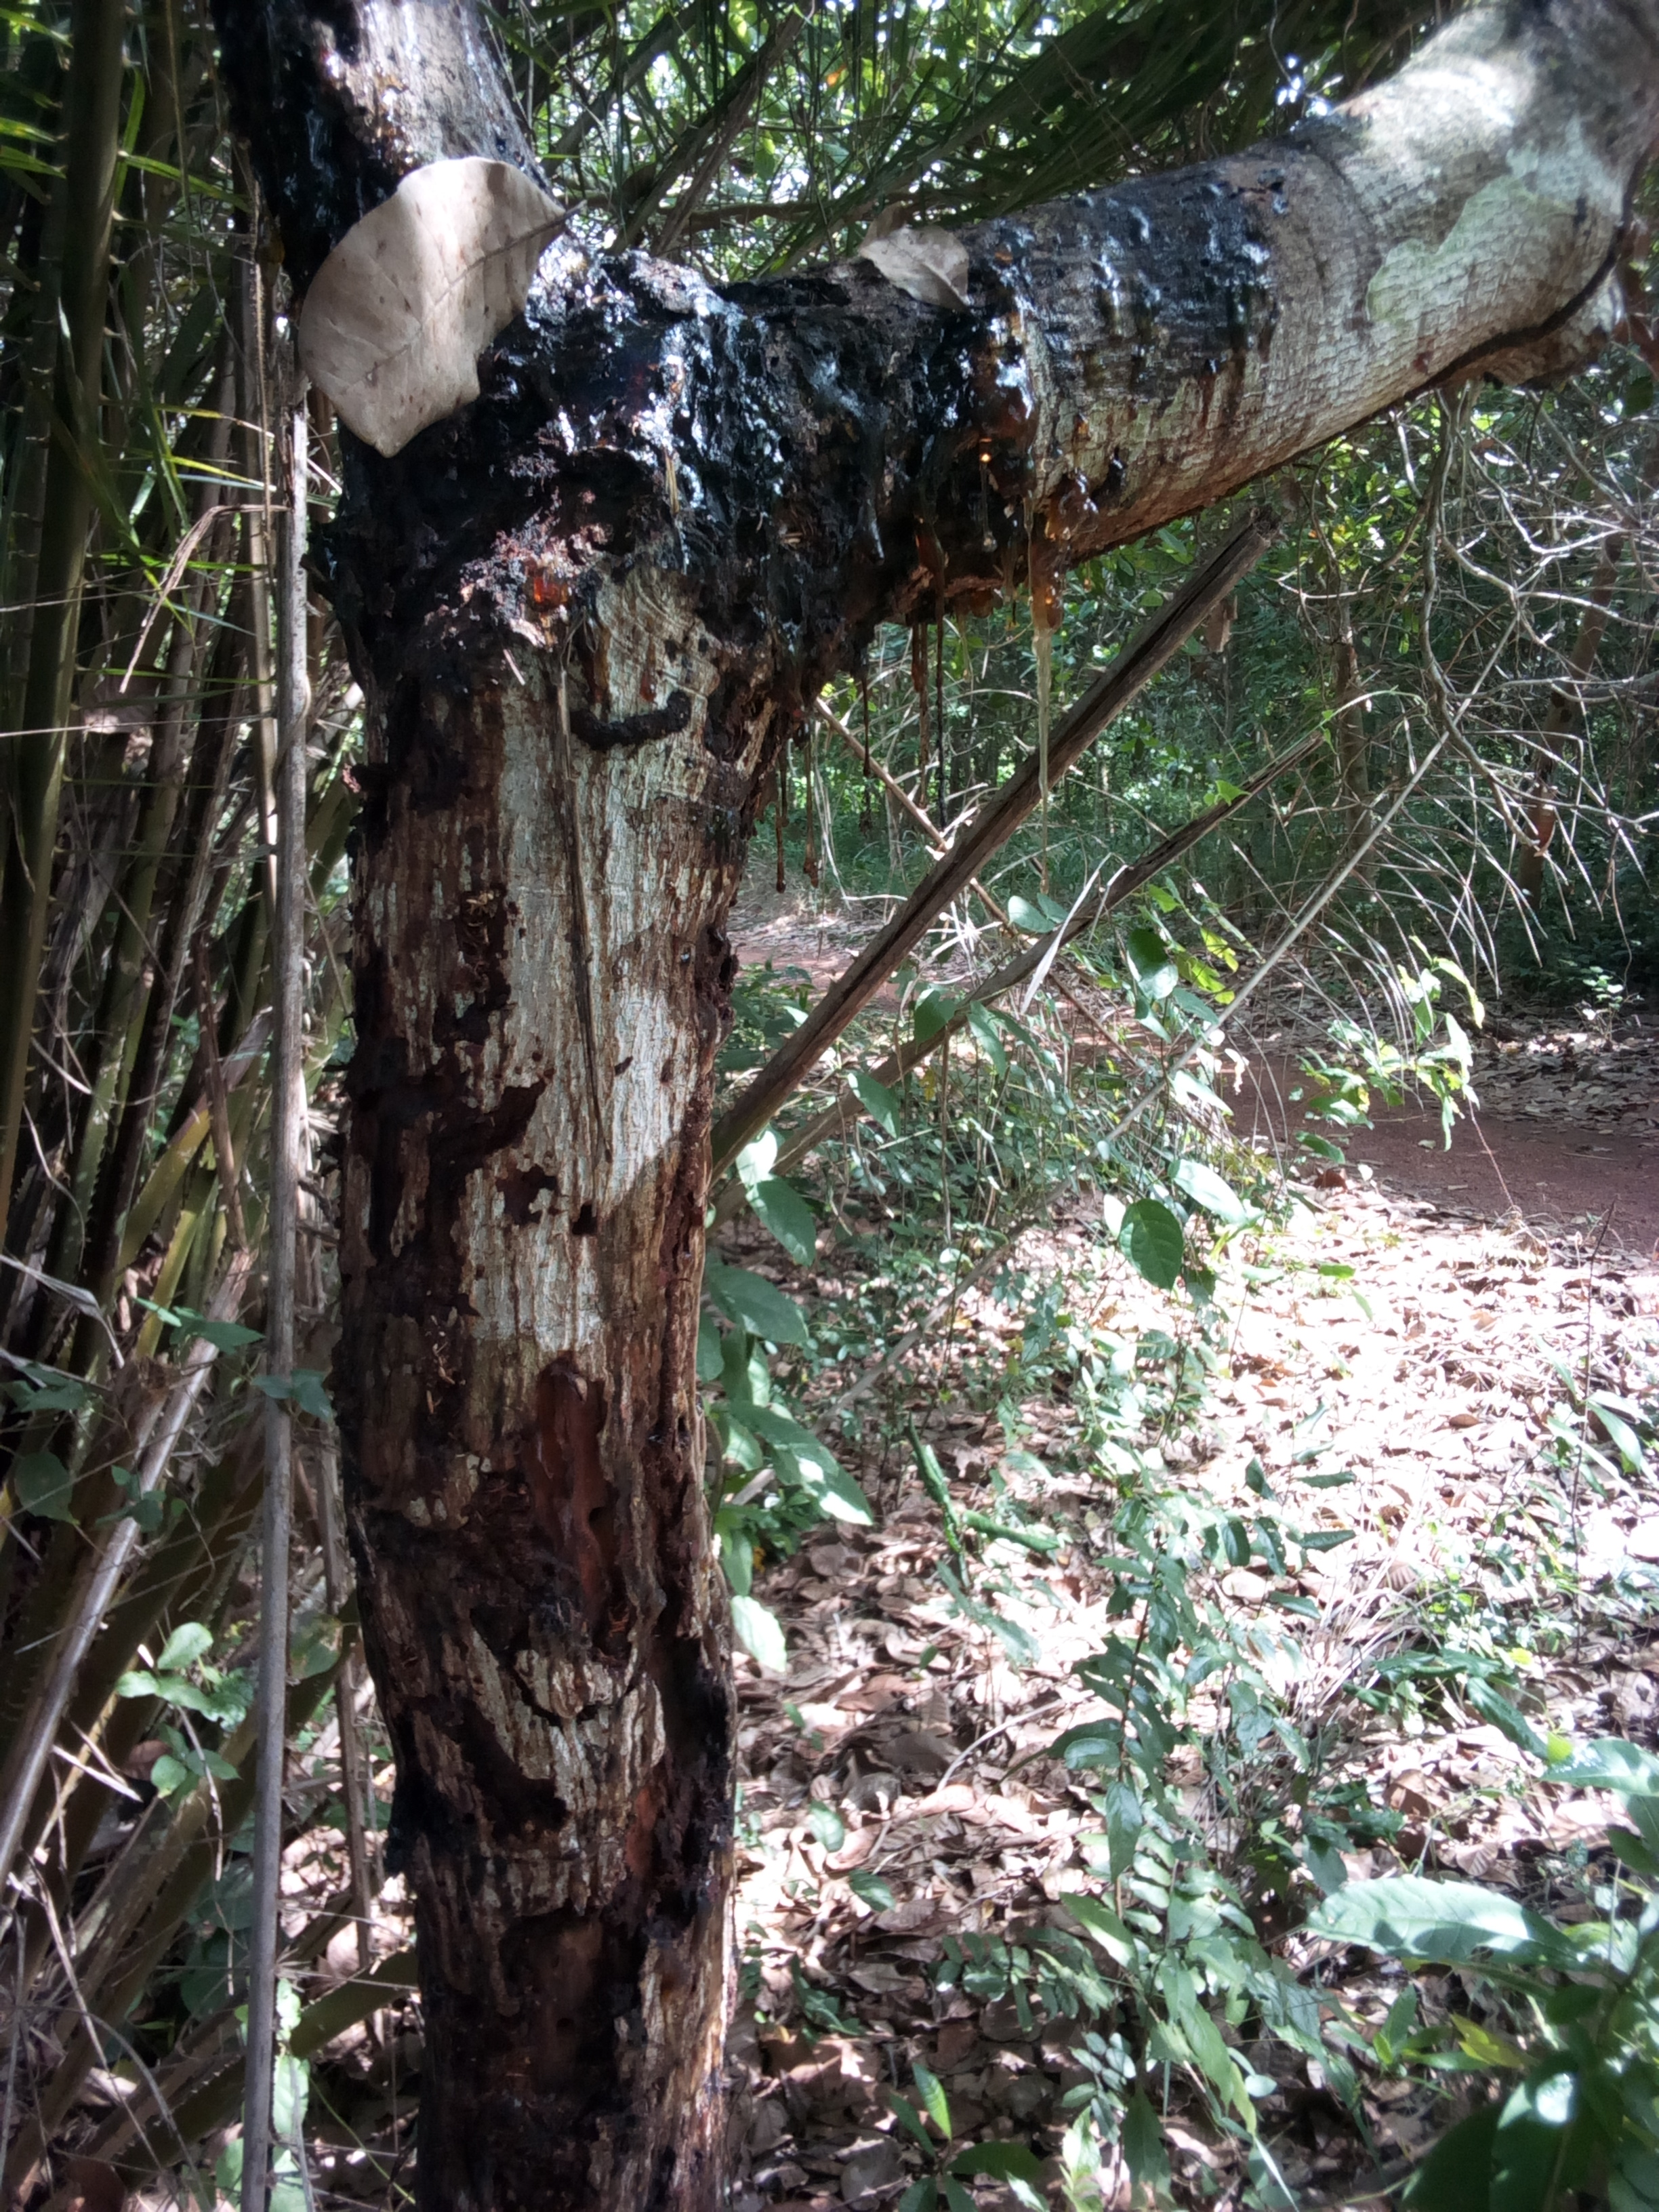Mecocorynus longiceps: (295, 110, 1342, 777)
